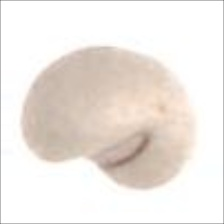L5: (91, 128, 157, 177), (133, 51, 182, 95)
L6: (18, 44, 199, 194)
